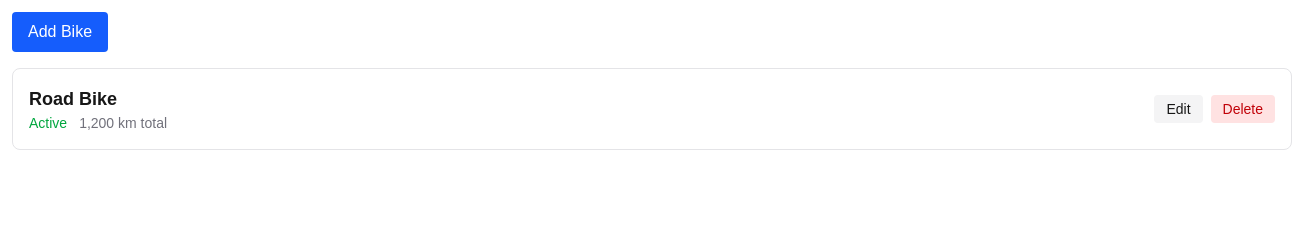
BikeList › shows edit form when Edit clicked
Click the button "Edit". click: [1178, 109]
box: [1154, 95, 1202, 123]
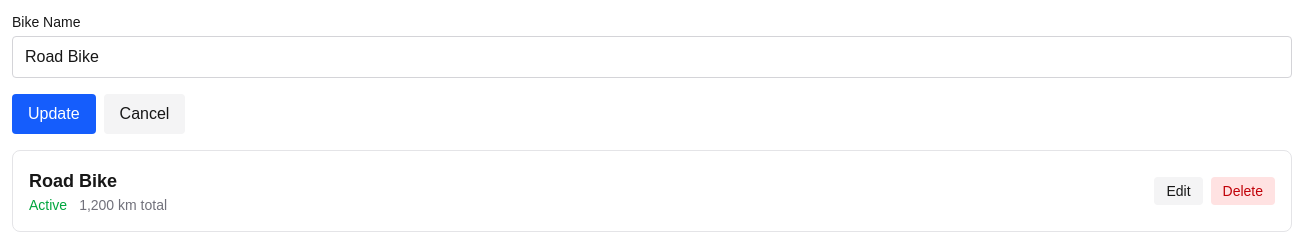
Now the field labelled "Bike Name" holds "Road Bike", box [12, 36, 1292, 78]
Now the button "Update" is shown, box [12, 94, 96, 134]
